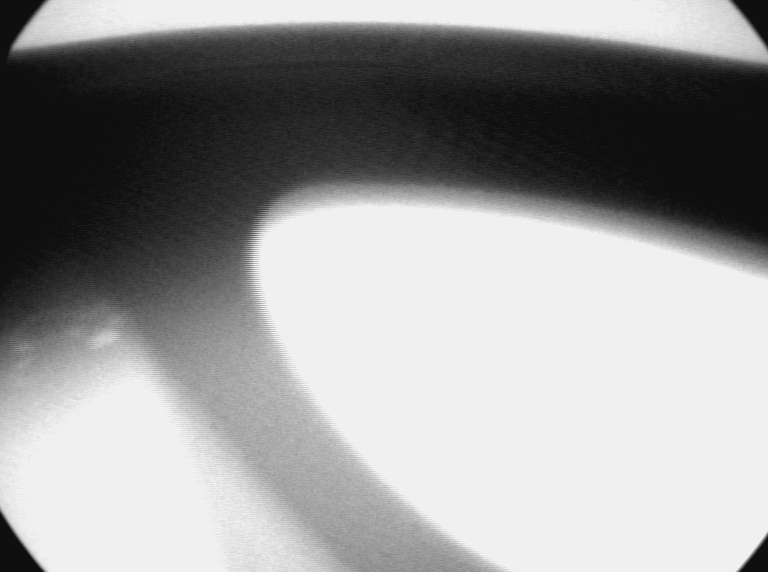defect: (5, 370, 36, 388)
